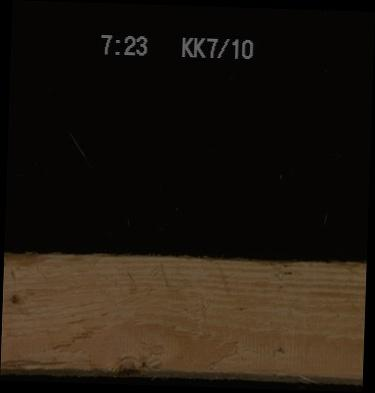edge_knot: (109, 349, 155, 375)
small_knot: (6, 287, 22, 307)
wave: (0, 353, 105, 375), (3, 251, 107, 267)
